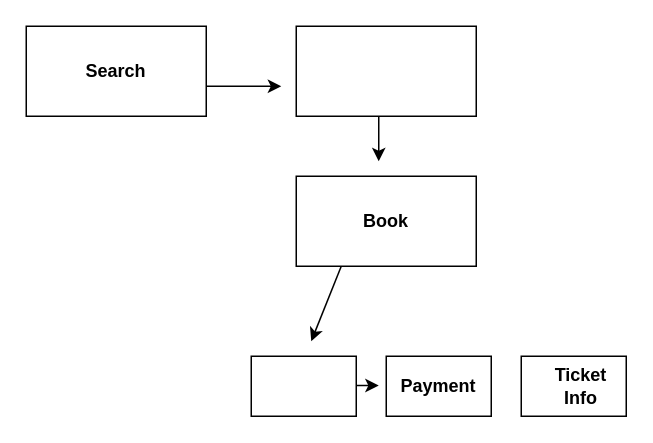
Image size: 653x443. Some labels were removed from this diagram. Here are the shapes that lost their labels. From the top down, the centre of each, then its label:
point (385, 70): SearchResult
point (303, 385): Select Seat
